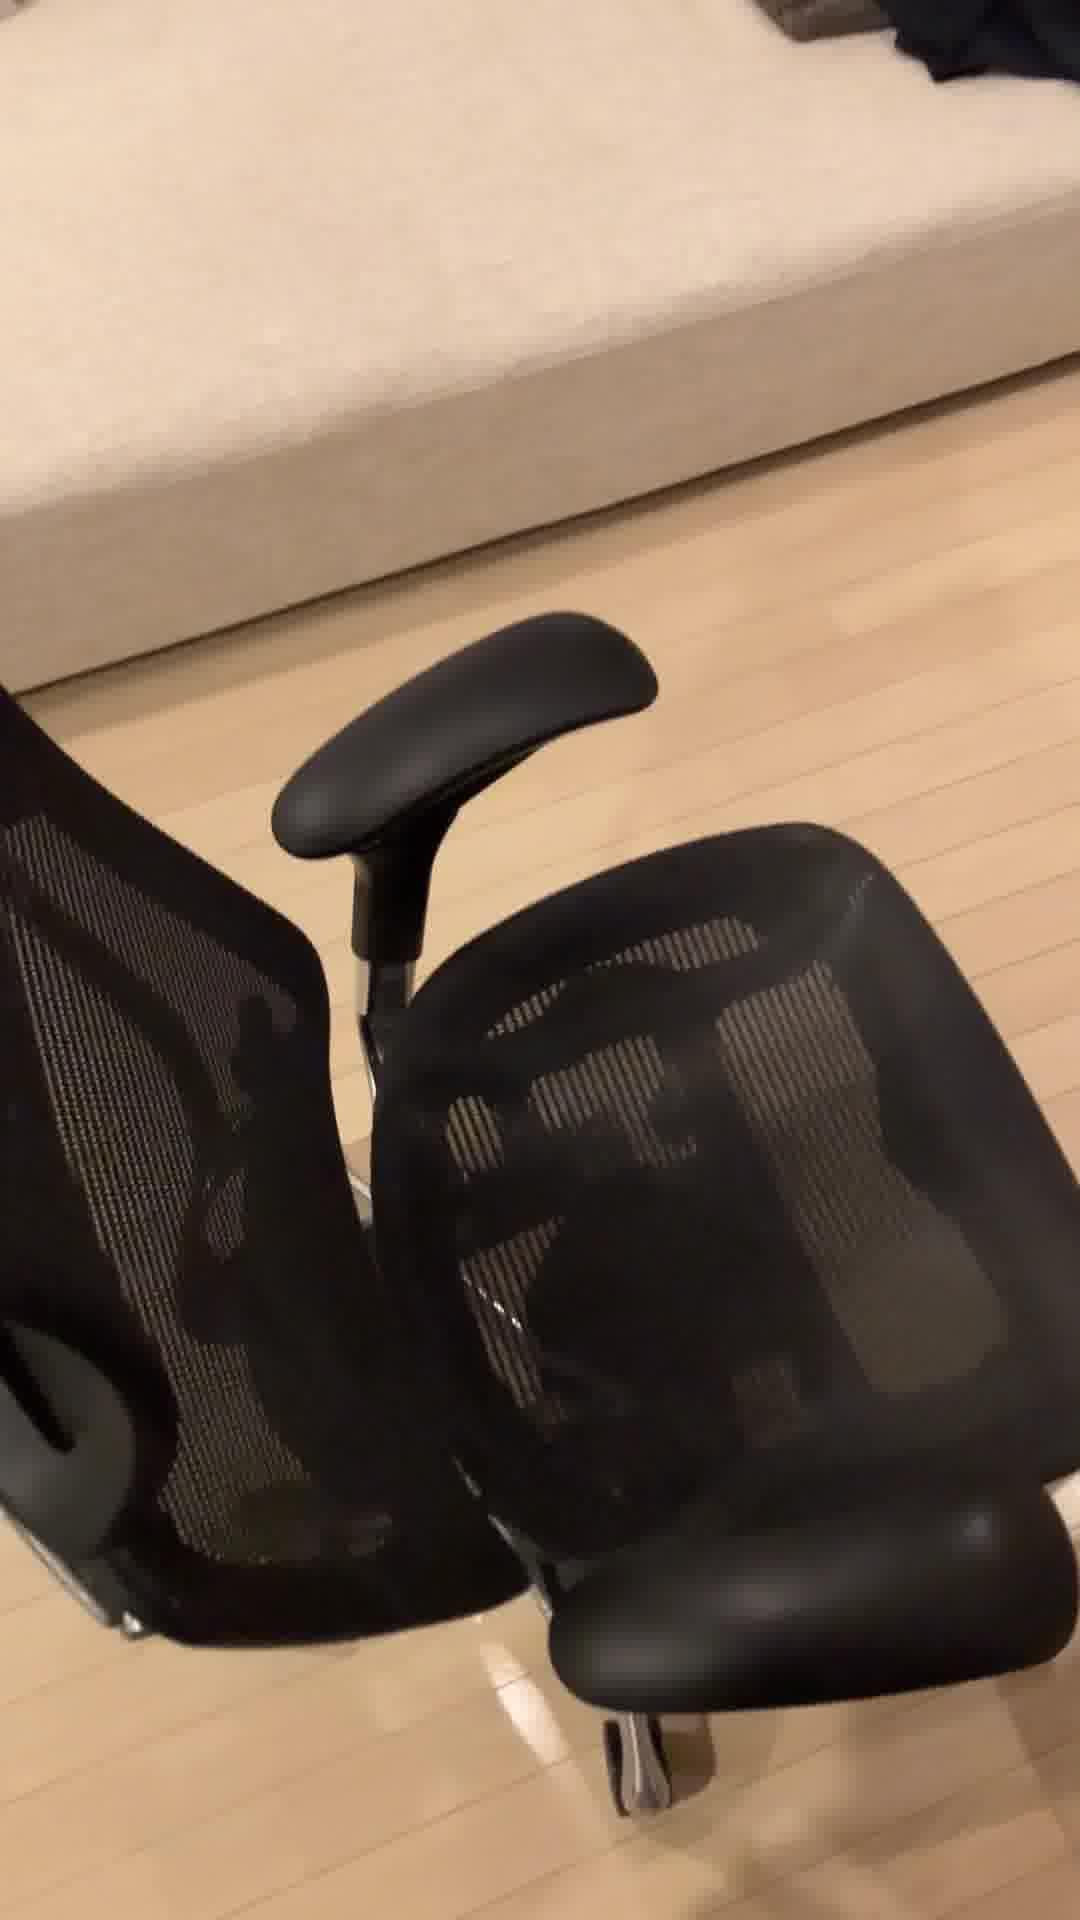okamura-contessa: (0, 597, 1080, 1828)
